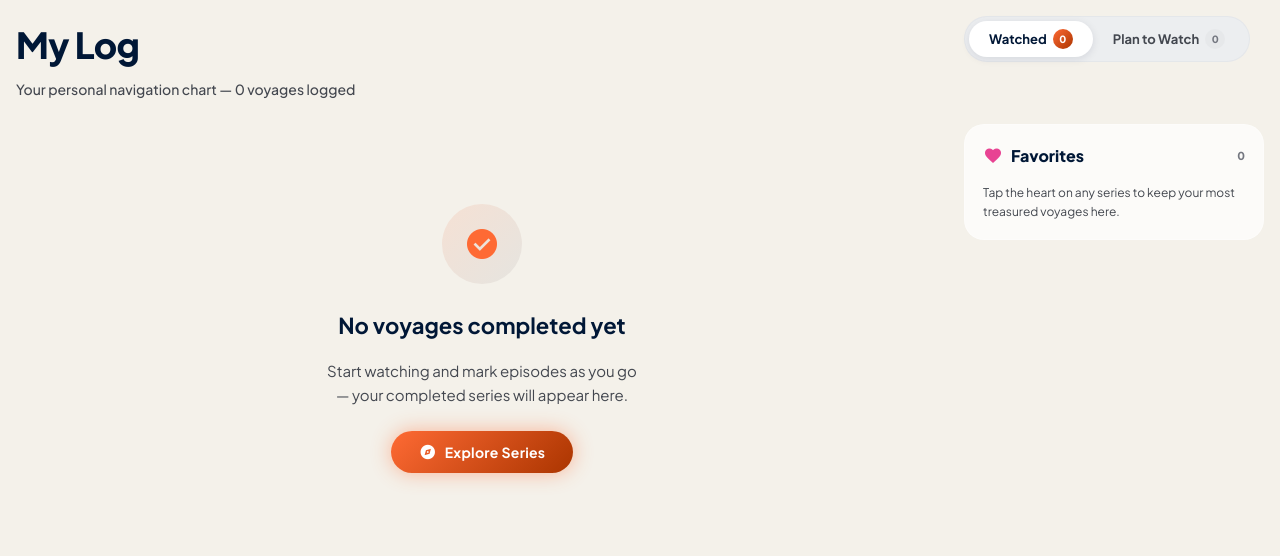
Test: shows a live tracked series alongside the mock catalogue
Click the button "Plan to Watch 0" at (1169, 39), box [1093,21,1245,57]
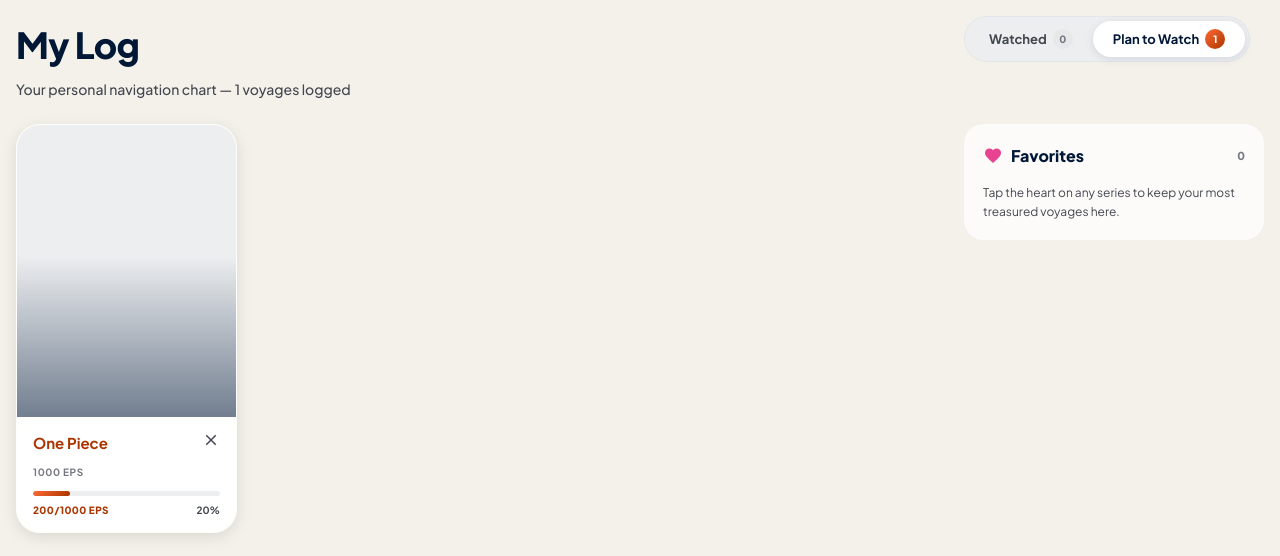
Result: the heading "One Piece" is shown at [33,433,108,452]
Result: the text "200/1000 eps" is shown at [33,502,109,518]
